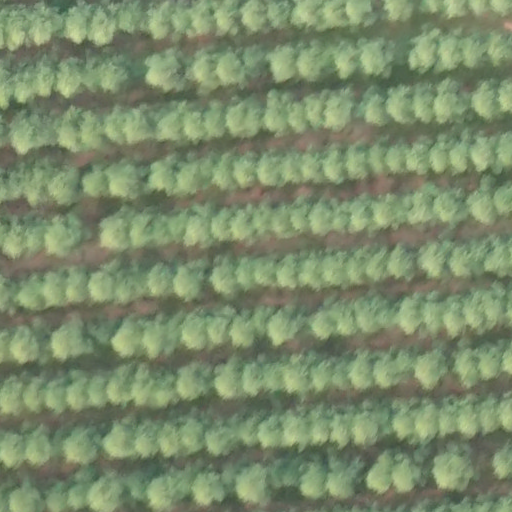eucalipto: (136, 365, 177, 410), (44, 220, 92, 258), (143, 52, 188, 92), (429, 455, 478, 491), (224, 97, 263, 142), (265, 91, 298, 142), (108, 158, 147, 200), (467, 78, 504, 122), (235, 466, 275, 506), (50, 321, 91, 360), (175, 363, 215, 402), (61, 427, 102, 465), (47, 165, 84, 207), (177, 154, 213, 197), (58, 104, 90, 152), (99, 213, 138, 252), (294, 43, 334, 81), (354, 293, 392, 332), (146, 157, 183, 197), (309, 200, 349, 237), (433, 80, 468, 122), (388, 241, 423, 283), (363, 453, 398, 495), (361, 36, 395, 79), (348, 243, 381, 287), (464, 290, 497, 334), (26, 7, 64, 45), (190, 471, 228, 509), (232, 150, 269, 189), (81, 162, 115, 204), (87, 475, 124, 512), (324, 460, 359, 499), (128, 210, 162, 250), (415, 350, 448, 391), (143, 473, 177, 512), (258, 149, 291, 189), (406, 32, 437, 74), (172, 261, 203, 303), (443, 296, 474, 338), (22, 427, 53, 469), (102, 421, 137, 458), (10, 112, 40, 155), (298, 253, 331, 292), (106, 369, 139, 408), (387, 85, 418, 126), (125, 105, 156, 146), (217, 360, 248, 401), (423, 295, 451, 340), (99, 55, 132, 93), (204, 100, 233, 143), (187, 50, 218, 90), (418, 243, 451, 280), (322, 145, 351, 187), (153, 111, 191, 143), (367, 244, 398, 283), (209, 259, 240, 298), (400, 297, 431, 336), (114, 317, 145, 356), (180, 216, 215, 250), (276, 254, 309, 290), (147, 260, 178, 298), (1, 8, 29, 50), (325, 91, 355, 130), (349, 196, 379, 235), (10, 325, 40, 364), (1, 218, 28, 261), (432, 188, 467, 221), (21, 380, 54, 415), (463, 240, 495, 276), (17, 275, 49, 311), (43, 271, 73, 309), (213, 151, 240, 193), (353, 405, 380, 447), (293, 199, 325, 234), (295, 465, 327, 500), (413, 83, 439, 126), (469, 188, 500, 224), (57, 56, 84, 97), (452, 350, 481, 388), (305, 92, 331, 134), (414, 400, 440, 442), (329, 407, 355, 449), (88, 268, 119, 303), (105, 108, 132, 148), (282, 411, 311, 448), (88, 9, 116, 47), (215, 1, 243, 39), (371, 197, 403, 230), (405, 141, 436, 175), (230, 208, 261, 242), (243, 361, 270, 400), (82, 113, 108, 153), (323, 251, 349, 291), (268, 46, 296, 83), (65, 267, 93, 304), (182, 313, 210, 350), (350, 350, 374, 393), (485, 240, 512, 278), (331, 301, 358, 339), (335, 38, 360, 79), (205, 424, 237, 456), (406, 191, 437, 224), (216, 52, 246, 86), (392, 461, 422, 495), (471, 138, 500, 173), (155, 213, 184, 248), (259, 414, 288, 449), (11, 63, 35, 105), (270, 309, 298, 345), (450, 137, 477, 174), (347, 144, 374, 181), (282, 154, 311, 188), (6, 484, 41, 512), (143, 321, 168, 360), (271, 204, 298, 240), (236, 256, 262, 293), (374, 358, 404, 390), (290, 1, 323, 30), (241, 45, 270, 78), (302, 152, 330, 186), (44, 378, 72, 412), (80, 59, 105, 97), (458, 396, 480, 439), (116, 273, 143, 308), (180, 417, 206, 453), (136, 419, 160, 458), (1, 432, 25, 471), (212, 208, 239, 242), (255, 255, 282, 289), (285, 363, 311, 398), (63, 7, 88, 43), (26, 222, 55, 253), (317, 1, 349, 29), (240, 1, 267, 34), (254, 206, 281, 239), (238, 414, 265, 447), (448, 241, 472, 278), (68, 376, 92, 413), (1, 378, 25, 415), (437, 36, 463, 70), (475, 346, 501, 380), (287, 98, 309, 138), (230, 316, 258, 347), (369, 143, 396, 175), (183, 110, 209, 143), (490, 443, 512, 482), (345, 1, 373, 31), (479, 397, 500, 437), (488, 35, 512, 69), (463, 36, 487, 70), (366, 93, 389, 128), (88, 375, 111, 410), (145, 8, 170, 40), (380, 1, 413, 25), (188, 9, 215, 38), (158, 425, 181, 459), (34, 59, 55, 96), (429, 142, 454, 173), (310, 309, 335, 340), (439, 400, 459, 438), (208, 315, 231, 348), (312, 359, 335, 392), (251, 306, 275, 337), (264, 363, 288, 394), (387, 144, 410, 175), (312, 408, 331, 445), (266, 1, 290, 30), (493, 182, 512, 218), (170, 9, 194, 35), (335, 358, 352, 394), (115, 10, 140, 34), (68, 483, 91, 509), (1, 67, 14, 112), (499, 129, 512, 169), (45, 490, 68, 512), (498, 398, 512, 433), (498, 79, 512, 113), (444, 1, 468, 19), (487, 1, 512, 18), (500, 346, 512, 377), (466, 1, 489, 17), (420, 1, 441, 16)
